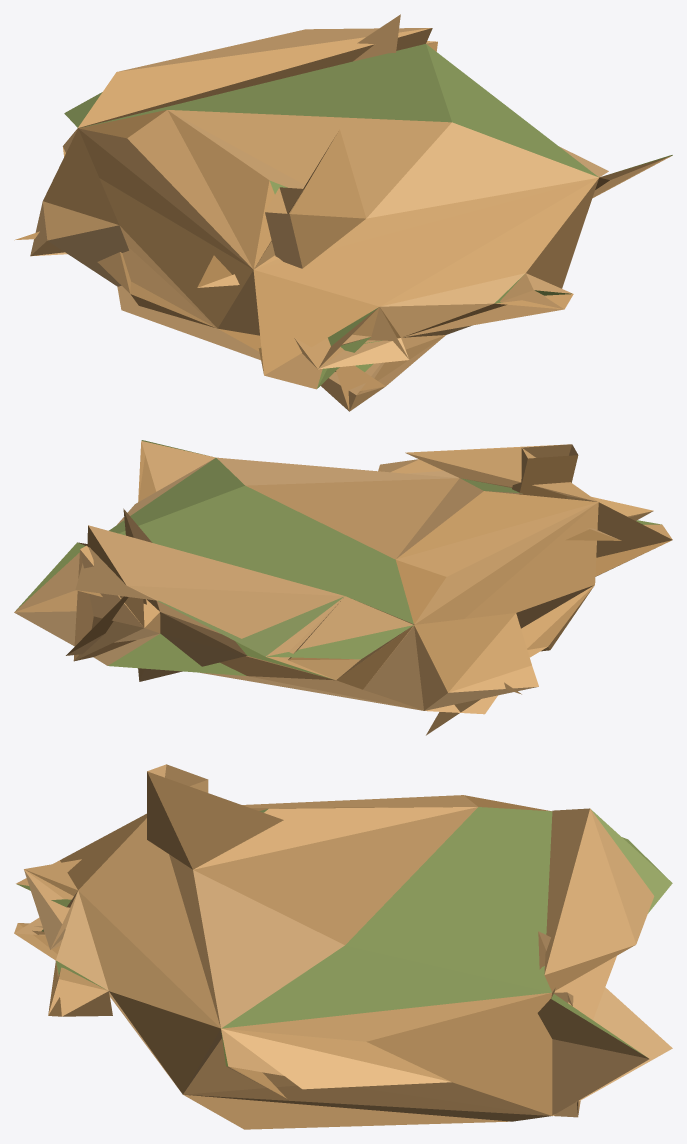
Rendered from ChunkSandstone_d.fbx.
3 renders of one model, top to bottom at view 1: azimuth 30°, elevation 25°; view 2: azimuth 150°, elevation 25°; view 3: azimuth 270°, elevation 25°, orthographic. The views are drawn at different scales.
Parts seen in each view (by area): view 1: ChunkSandstone_d; view 2: ChunkSandstone_d; view 3: ChunkSandstone_d.
Part boxes in pixels (x1,y1,x2,y2): ChunkSandstone_d: (14,14,672,411); ChunkSandstone_d: (14,440,672,735); ChunkSandstone_d: (14,764,672,1129).
Size of what is drawn, in the model's own units: 0.2958 by 0.1143 by 0.2966.
